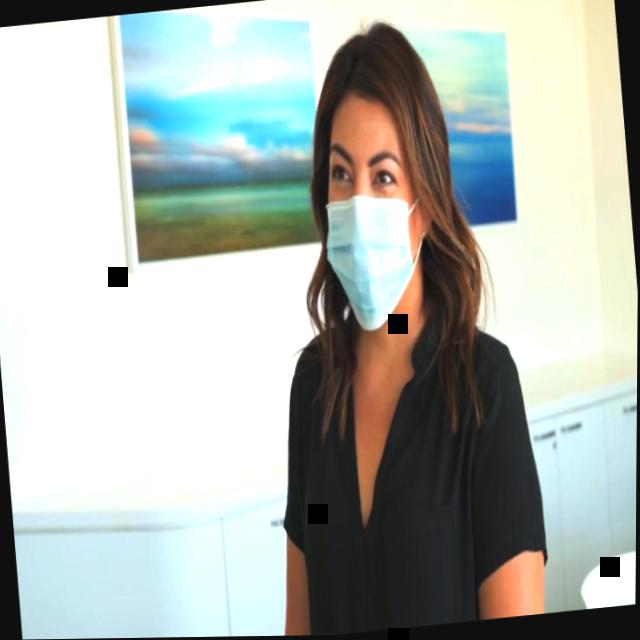Mask: (311, 86, 436, 340)
